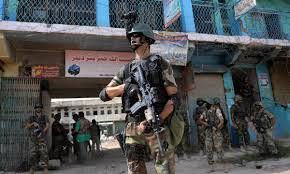gun: (124, 58, 167, 145), (27, 118, 49, 138), (202, 111, 219, 132)
uniform: (107, 57, 175, 160), (25, 114, 56, 167), (195, 108, 227, 158), (250, 109, 279, 156), (229, 101, 251, 148)
